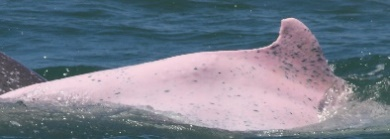fin: (3, 5, 376, 137)
